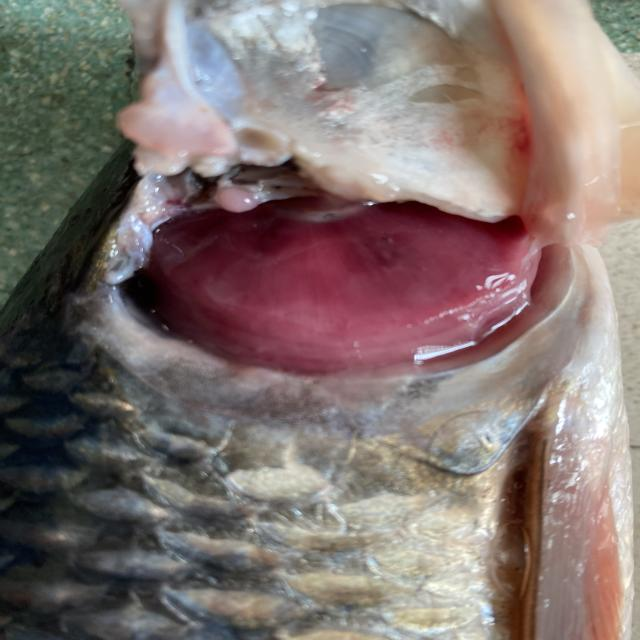Fresh: (98, 146, 544, 379)
